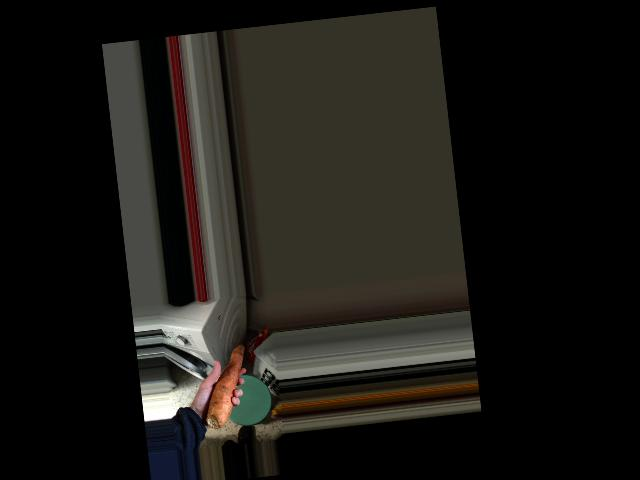sweet_potato: (195, 337, 257, 431)
